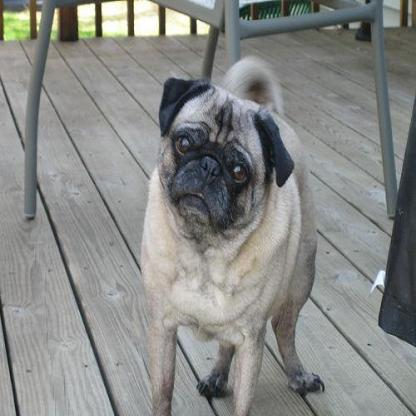pug: (139, 55, 325, 414)
